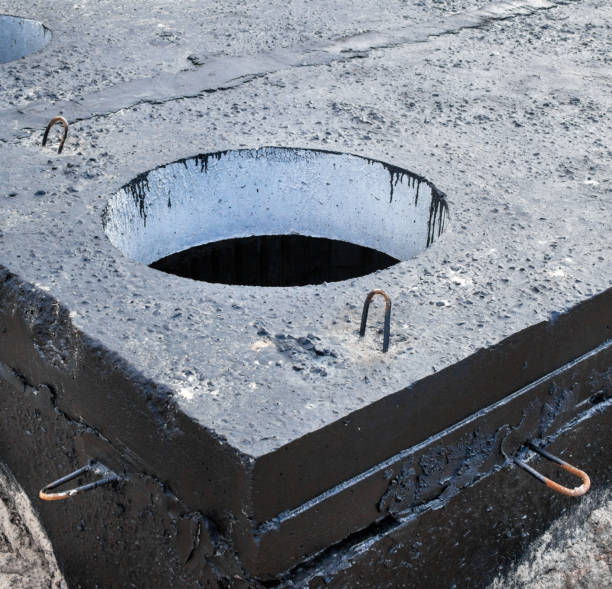open_manhole: (107, 136, 449, 287)
